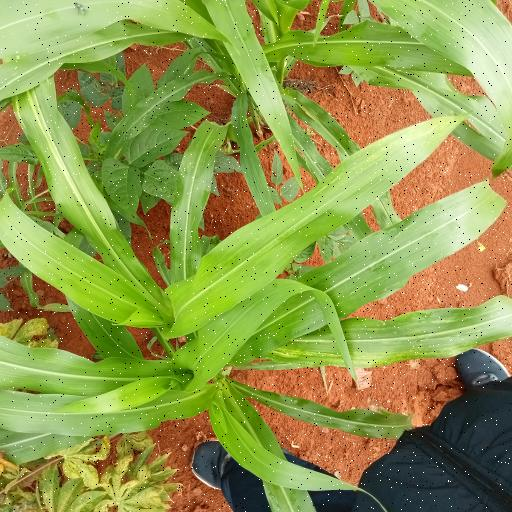Corn_Brown_Spots: (0, 80, 204, 426)
